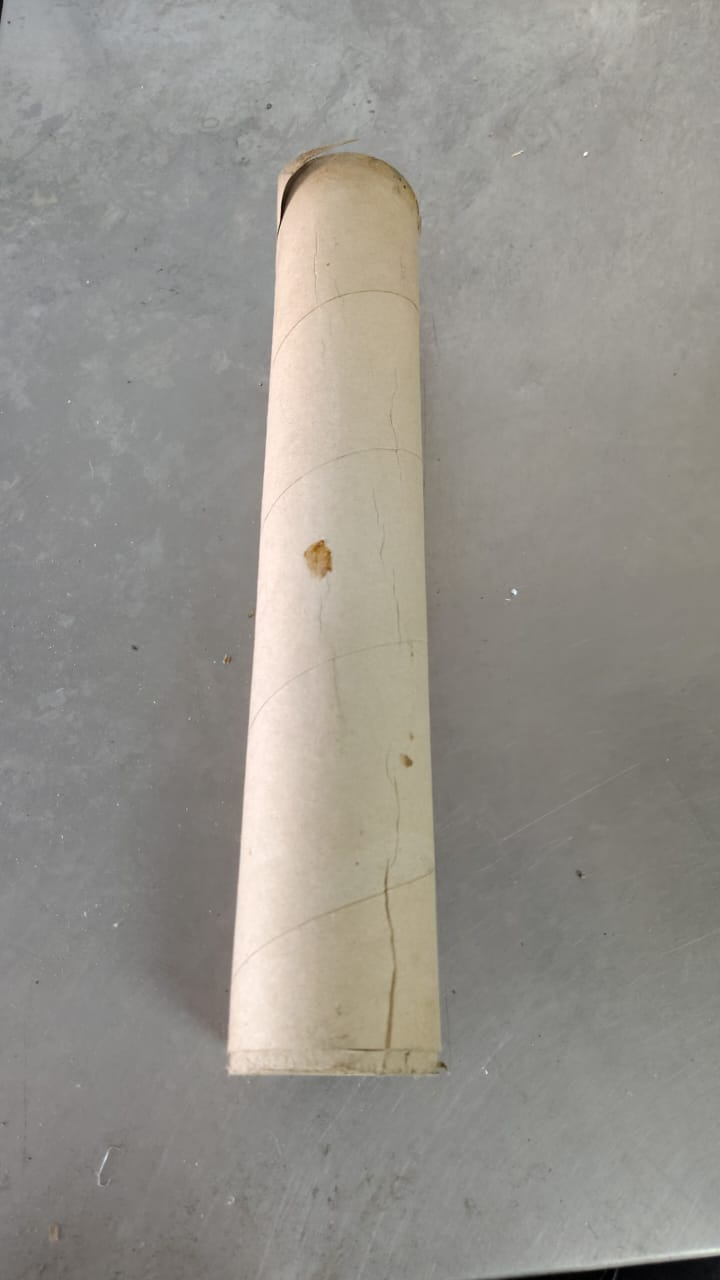Carton: (229, 150, 443, 1076)
